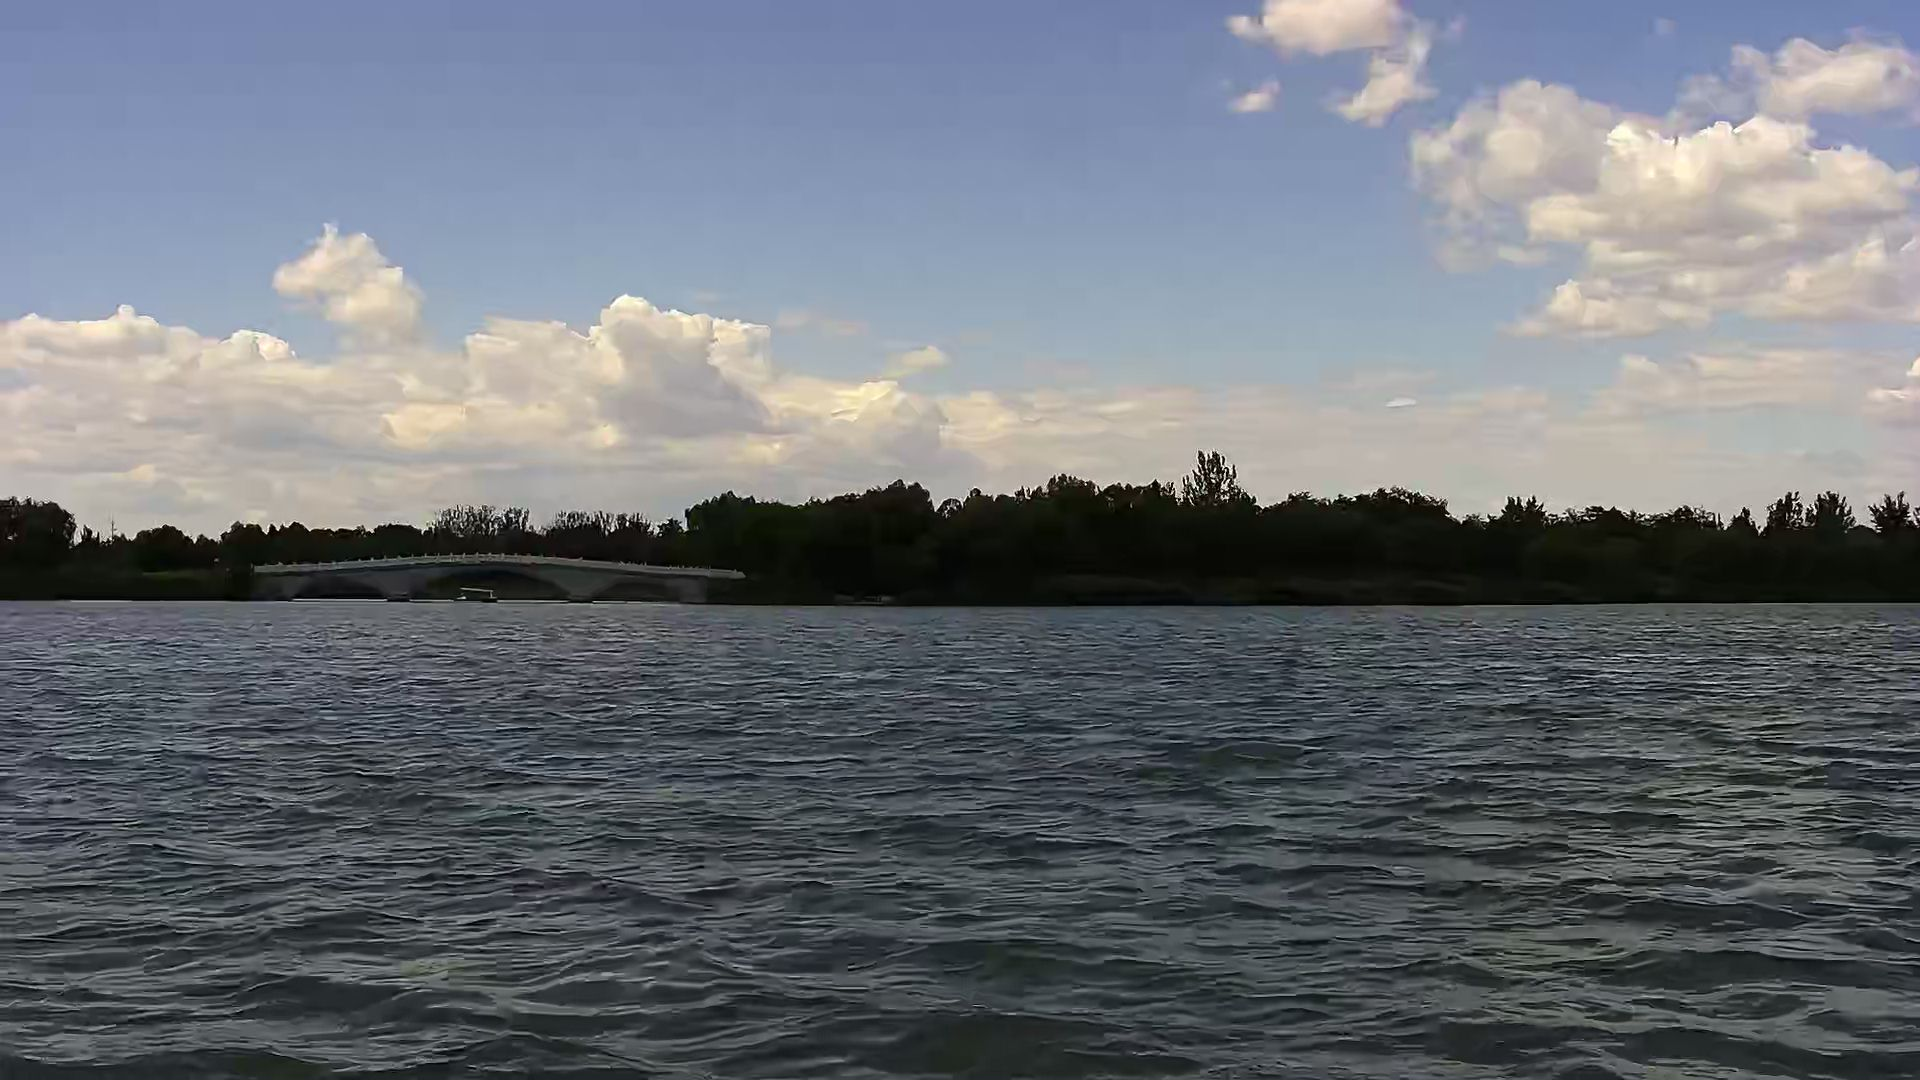boat: (450, 585, 505, 607)
bridge: (251, 550, 744, 608)
